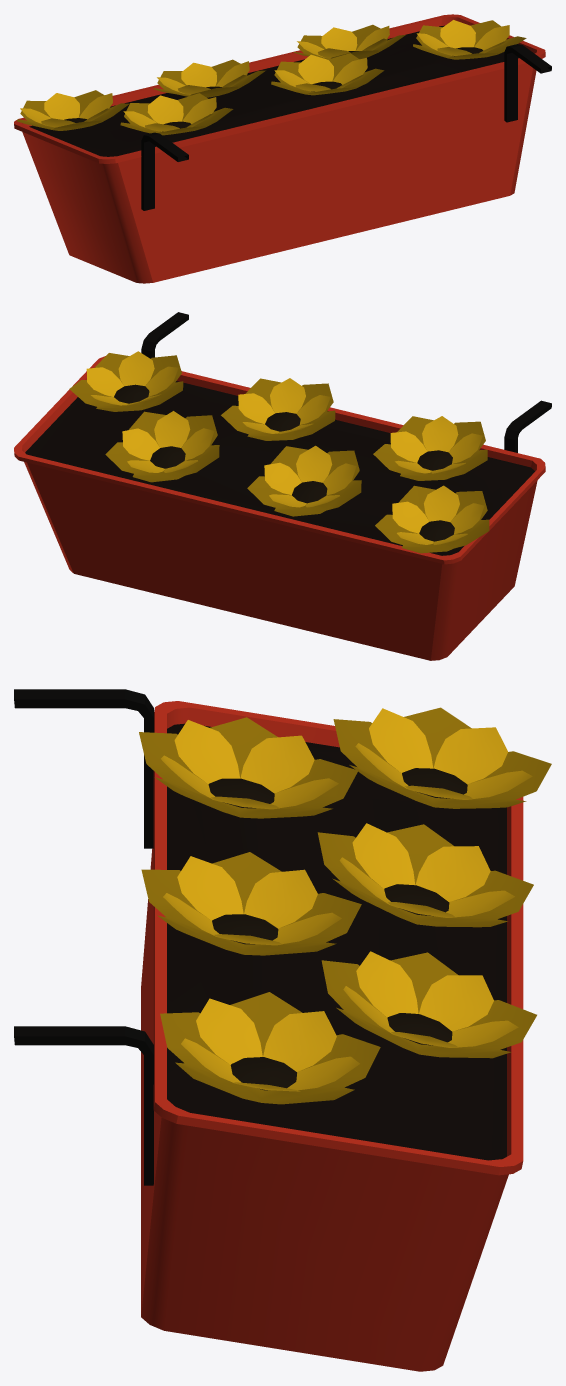
The model's file is Prop_FlowerPotWindow.fbx.
3 views of the same model, one above another, from view 1: azimuth 30°, elevation 25°; view 2: azimuth 150°, elevation 25°; view 3: azimuth 270°, elevation 25° (orthographic). The views are drawn at different scales.
Visible parts, largest first — view 1: Prop_FlowerPotWindow; view 2: Prop_FlowerPotWindow; view 3: Prop_FlowerPotWindow.
Part boxes in pixels (left/top/right/bottom): Prop_FlowerPotWindow: left=14, top=14, right=551, bottom=283; Prop_FlowerPotWindow: left=14, top=312, right=551, bottom=660; Prop_FlowerPotWindow: left=14, top=689, right=551, bottom=1371.
Size of the model in its own units: 43.37 by 15.98 by 23.11.
